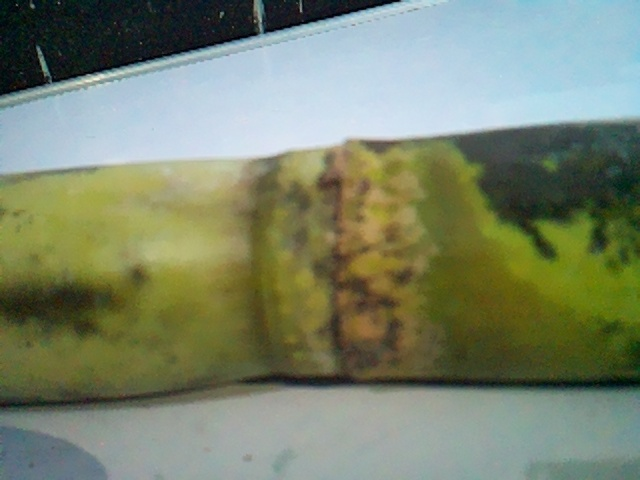Good Sugarcane: (0, 111, 635, 416)
Node: (200, 120, 468, 396)
